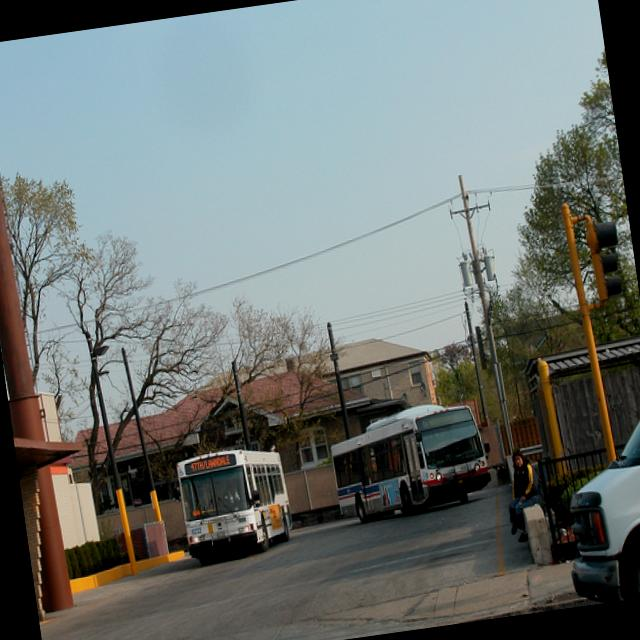Vehicle: (543, 381, 640, 607), (326, 398, 494, 524), (176, 444, 296, 564)
